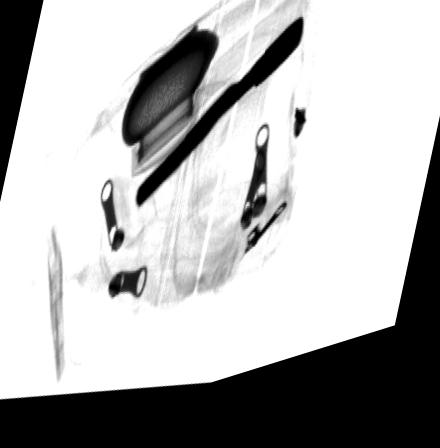Pliers: (135, 32, 304, 218)
